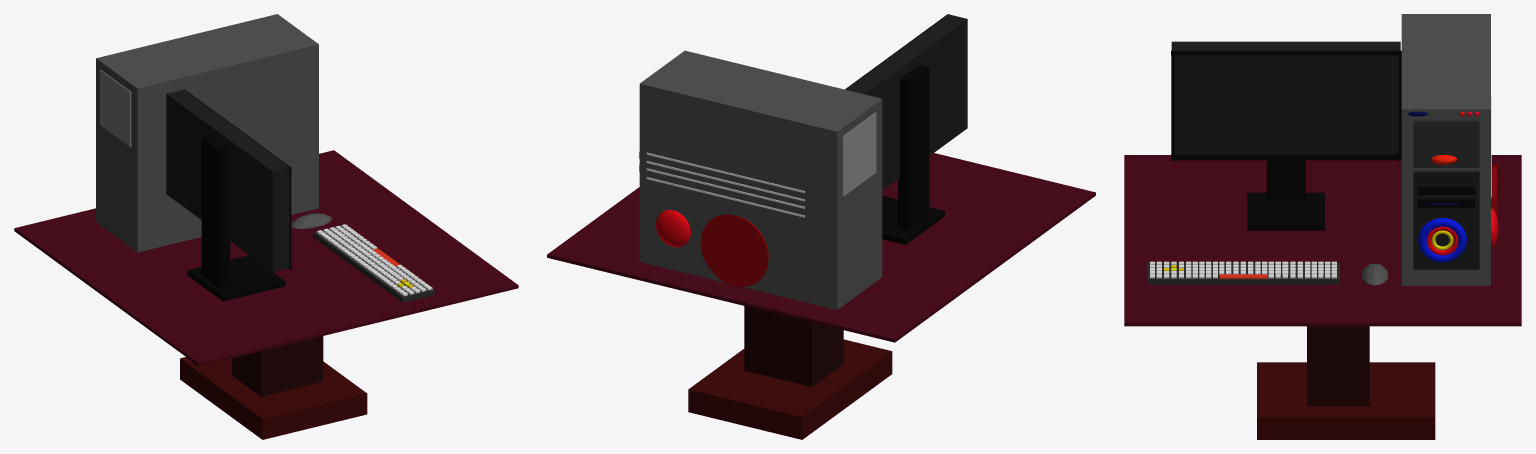
File: pcu.glb
The picture shows the model from 3 angles, left to right: view 1: azimuth 30°, elevation 25°; view 2: azimuth 150°, elevation 25°; view 3: azimuth 270°, elevation 25°; orthographic projection. The views are drawn at different scales.
Visible parts, largest first — view 1: Cube, Cube.001, Cube.014, Cube.162, Cube.013, Cube.161, Cube.012, Cube.011, Cube.019; view 2: Cube.001, Cube, Cube.162, Cube.014, Cube.161, Cube.013, Cone, Cube.011, Cube.012, Sphere.006; view 3: Cube, Cube.014, Cube.001, Cube.162, Cube.161, Cube.003, Cube.002, Cube.012, Cube.019, Cube.013, Cube.016, Cube.015 (+8 smaller).
Part boxes in pixels (x1=…): Cube: x1=14, y1=150, x2=518, y2=366; Cube.001: x1=96, y1=14, x2=318, y2=252; Cube.014: x1=166, y1=89, x2=289, y2=271; Cube.162: x1=180, y1=357, x2=367, y2=439; Cube.013: x1=201, y1=136, x2=230, y2=288; Cube.161: x1=232, y1=336, x2=323, y2=396; Cube.012: x1=187, y1=255, x2=285, y2=301; Cube.011: x1=100, y1=69, x2=131, y2=147; Cube.019: x1=313, y1=225, x2=434, y2=302; Cube.001: x1=639, y1=50, x2=882, y2=309; Cube: x1=547, y1=153, x2=1095, y2=342; Cube.162: x1=688, y1=339, x2=892, y2=439; Cube.014: x1=846, y1=14, x2=967, y2=190; Cube.161: x1=744, y1=306, x2=843, y2=386; Cube.013: x1=898, y1=65, x2=929, y2=230; Cone: x1=700, y1=214, x2=768, y2=287; Cube.011: x1=842, y1=112, x2=876, y2=196; Cube.012: x1=882, y1=195, x2=944, y2=244; Sphere.006: x1=655, y1=210, x2=690, y2=247; Cube: x1=1124, y1=155, x2=1521, y2=326; Cube.014: x1=1171, y1=41, x2=1400, y2=154; Cube.001: x1=1401, y1=14, x2=1490, y2=285; Cube.162: x1=1257, y1=362, x2=1435, y2=439; Cube.161: x1=1307, y1=326, x2=1369, y2=406; Cube.003: x1=1413, y1=171, x2=1479, y2=269; Cube.002: x1=1413, y1=119, x2=1479, y2=167; Cube.012: x1=1247, y1=192, x2=1324, y2=230; Cube.019: x1=1147, y1=262, x2=1339, y2=284; Cube.013: x1=1266, y1=160, x2=1305, y2=200; Cube.016: x1=1171, y1=154, x2=1401, y2=160; Cube.015: x1=1171, y1=50, x2=1401, y2=55.
Size of the model in its own units: 10.26 by 9.95 by 10.26.
